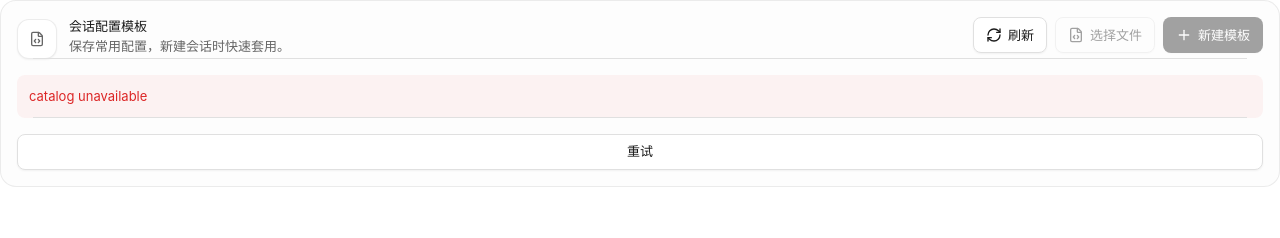
Test case: shows a read failure instead of a false empty catalog and retries
Check: the text "catalog unavailable" is shown, box top-left (17, 75), bottom-right (1263, 118)
Check: the button with test id "config-templates-new" is disabled, box top-left (1163, 17), bottom-right (1263, 53)
Step 1. Click the button with test id "config-templates-retry" → [640, 152], box top-left (17, 134), bottom-right (1263, 170)
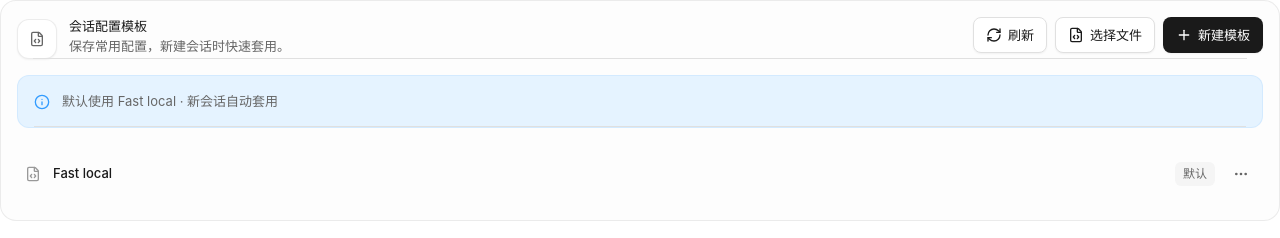
Check: the text "Fast local" is shown, box top-left (53, 165), bottom-right (112, 181)
Check: the message with test id "config-templates-error" is gone
Check: the button with test id "config-templates-new" is enabled, box top-left (1163, 17), bottom-right (1263, 53)
